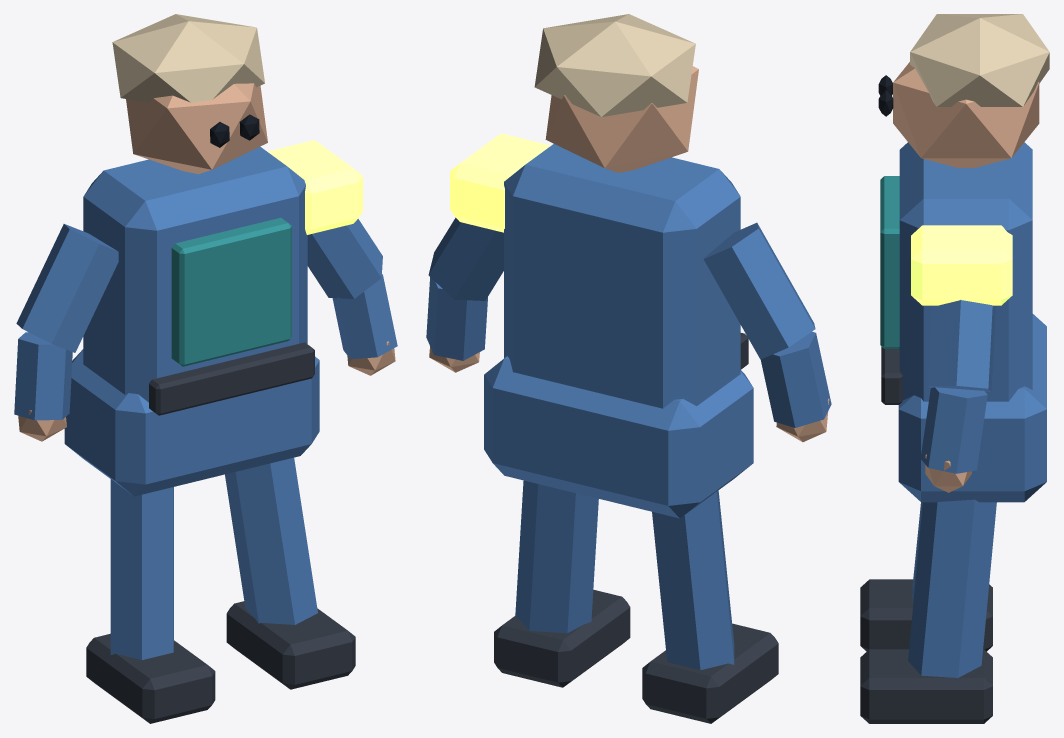
The model's file is npcs_021_seed11.glb.
The picture shows the model from 3 angles, left to right: view 1: azimuth 30°, elevation 25°; view 2: azimuth 150°, elevation 25°; view 3: azimuth 270°, elevation 25°; orthographic projection. The views are drawn at different scales.
Parts seen in each view (by area): view 1: npcs_021_seed11; view 2: npcs_021_seed11; view 3: npcs_021_seed11.
Boxes of the visible parts, <box> form: npcs_021_seed11: <box>14,14,397,723</box>; npcs_021_seed11: <box>426,14,831,723</box>; npcs_021_seed11: <box>860,14,1049,723</box>.
Bounding box in the file's own units: 1.01 × 1.64 × 0.4311.
